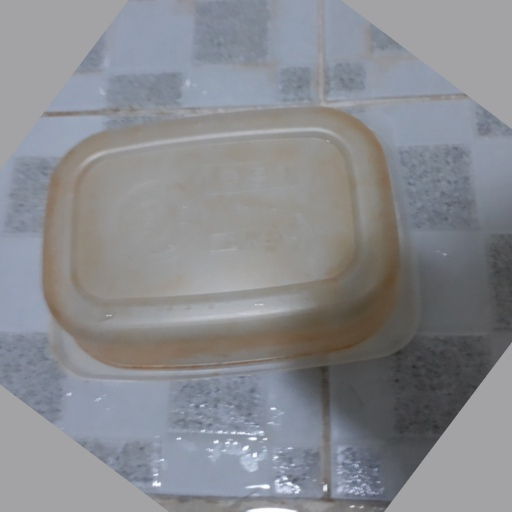Plastic_4: (39, 104, 423, 381)
